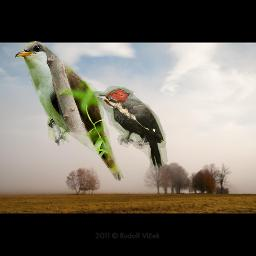Cuckoo: (11, 41, 128, 181)
Woodpecker: (91, 86, 169, 170)
